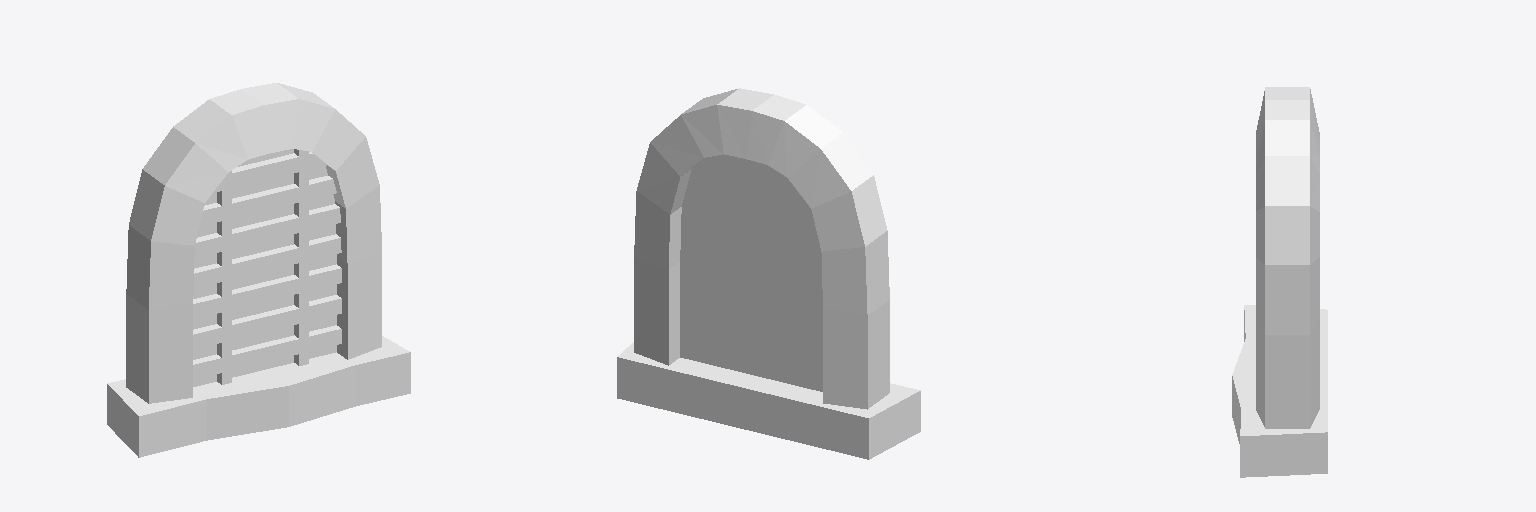
File: window_def.obj
The picture shows the model from 3 angles: view 1: azimuth 30°, elevation 25°; view 2: azimuth 150°, elevation 25°; view 3: azimuth 270°, elevation 25°; orthographic projection.
Visible parts, largest first — view 1: polySurface88, polySurface87; view 2: polySurface88, polySurface87; view 3: polySurface88.
Part boxes in pixels (x1,y1,x2,y2): polySurface88: (107,83,410,457); polySurface87: (193,149,336,386); polySurface88: (617,88,920,459); polySurface87: (680,154,822,391); polySurface88: (1232,87,1327,477).
Bounding box in the file's own units: 4.1 × 4.52 × 1.26.